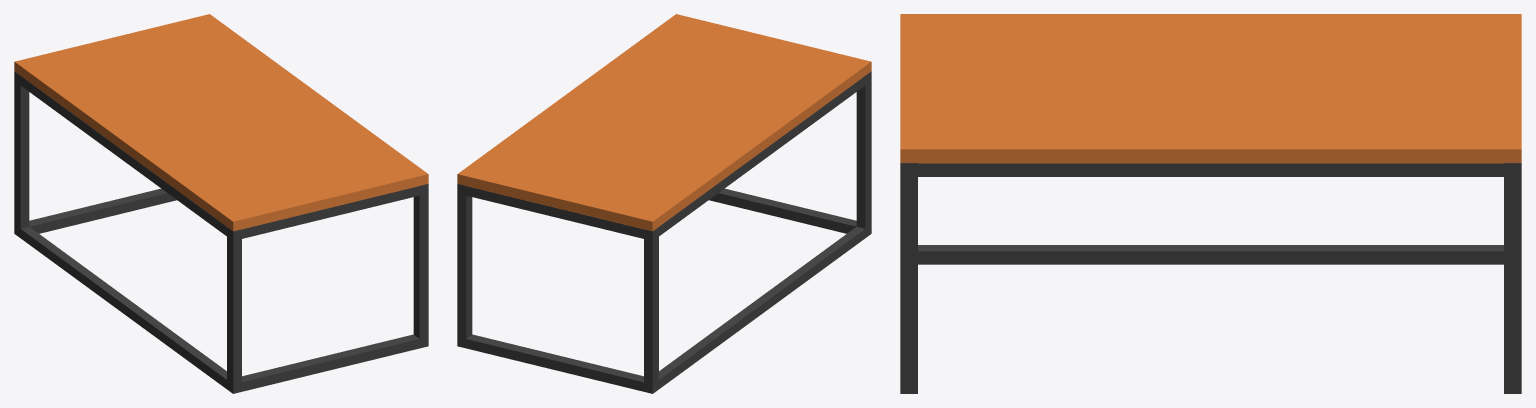
The model's file is desk.gltf.
3 views of the same model, side by side, from view 1: azimuth 30°, elevation 25°; view 2: azimuth 150°, elevation 25°; view 3: azimuth 270°, elevation 25° (orthographic). The views are drawn at different scales.
Visible parts, largest first — view 1: Desk; view 2: Desk; view 3: Desk.
Part boxes in pixels (x1,y1,x2,y2): Desk: (14,14,428,393); Desk: (457,14,871,393); Desk: (900,14,1521,393).
Bounding box in the file's own units: 1.23 × 1.04 × 2.39.
